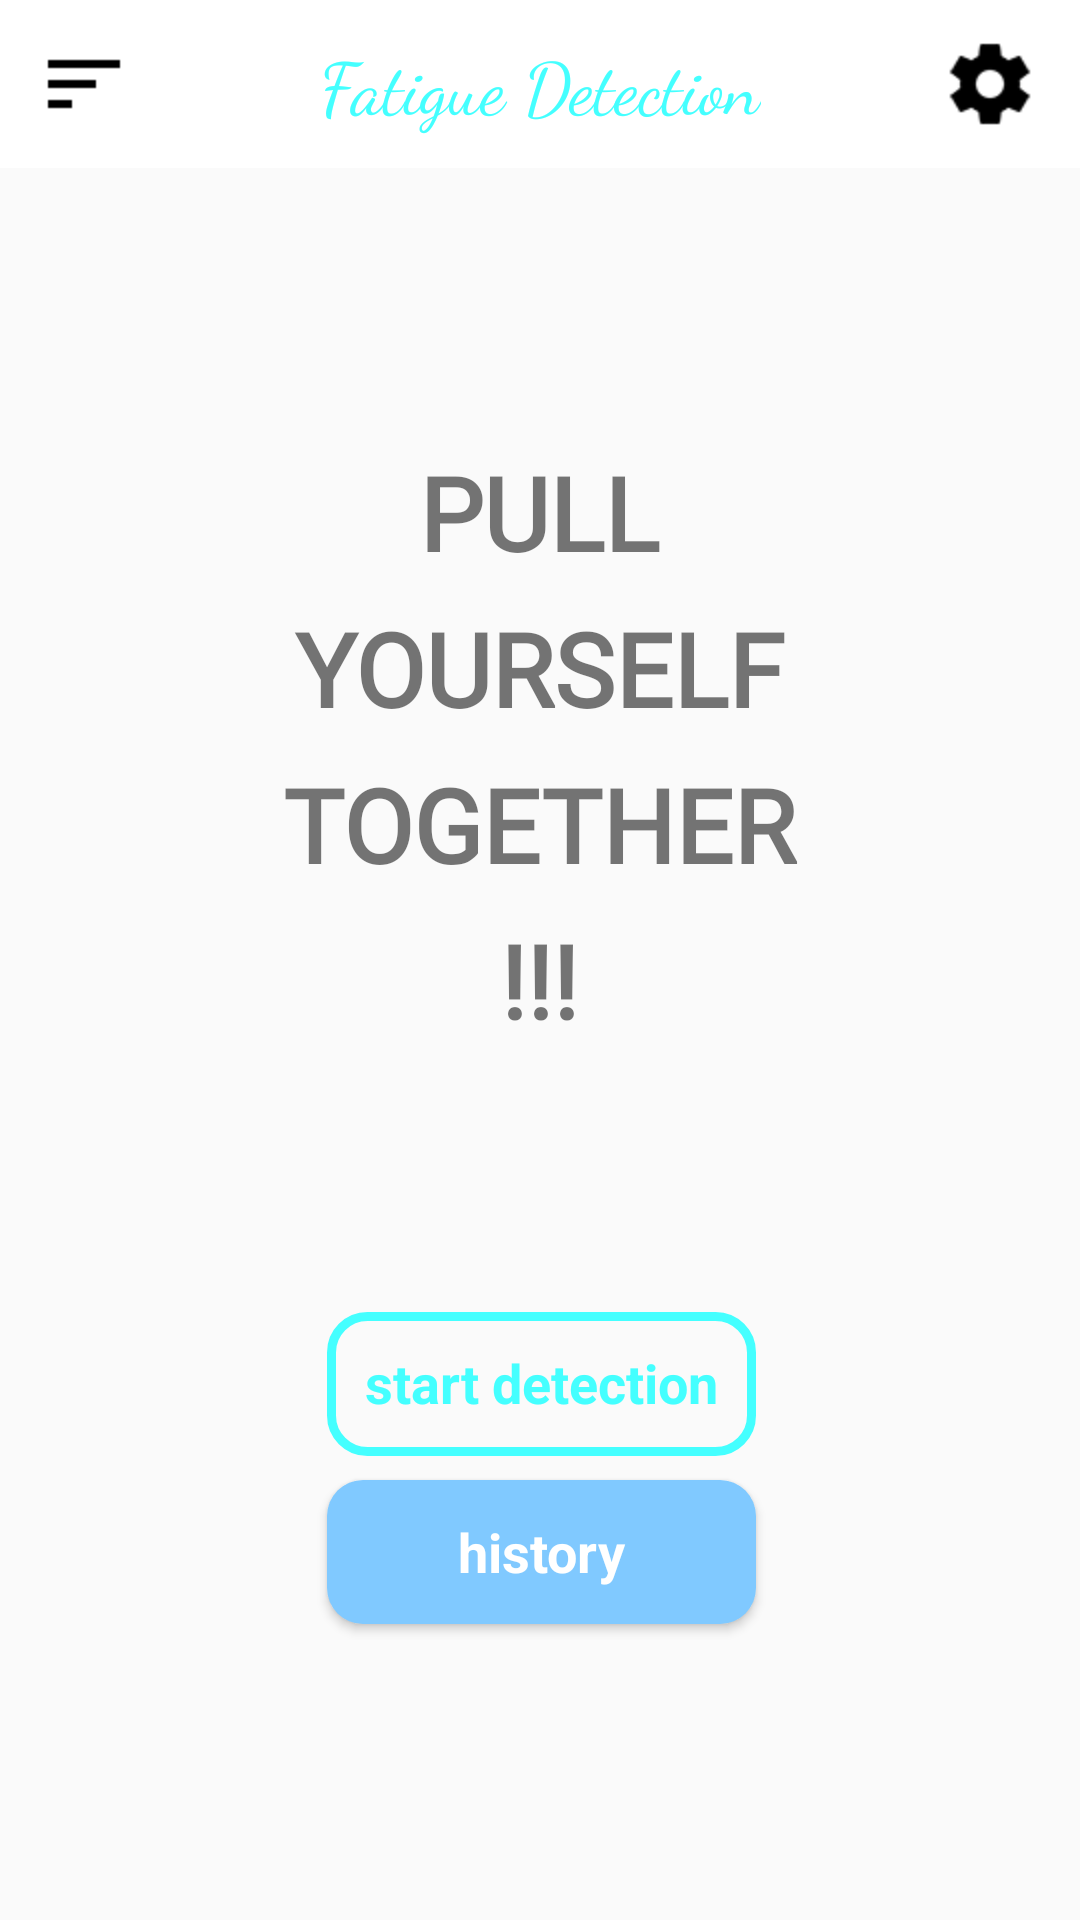

Named icons in this screenshot (1080*1920) and their centers, [x,y]:
settings mid: [990,84]
